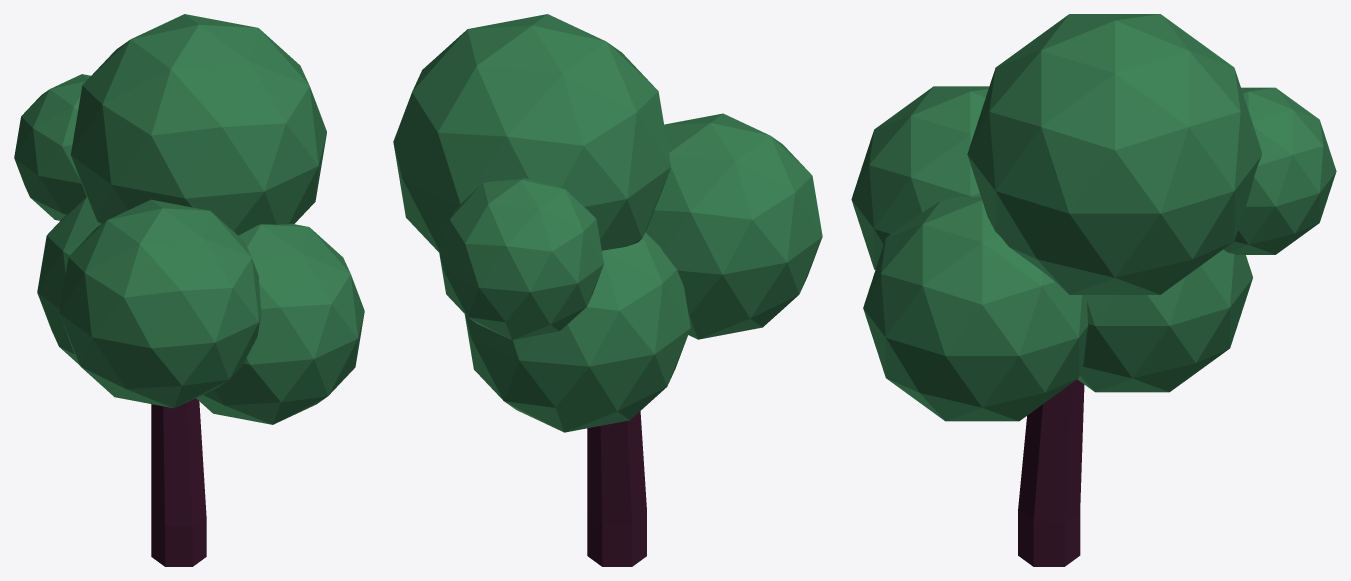
Rendered from tree.glb.
3 renders of one model, left to right at view 1: azimuth 30°, elevation 25°; view 2: azimuth 150°, elevation 25°; view 3: azimuth 270°, elevation 25°, orthographic. The views are drawn at different scales.
Parts seen in each view (by area): view 1: Leaves, Log; view 2: Leaves, Log; view 3: Leaves, Log.
Part boxes in pixels (box(x1,y1,x2,y2)): Leaves: box(14, 14, 364, 424); Log: box(151, 398, 206, 566); Leaves: box(393, 14, 822, 432); Log: box(587, 411, 646, 566); Leaves: box(851, 14, 1336, 421); Log: box(1018, 379, 1084, 566).
Bounding box in the file's own units: 12.37 × 19.96 × 15.61.
1 material, 1 textured.
